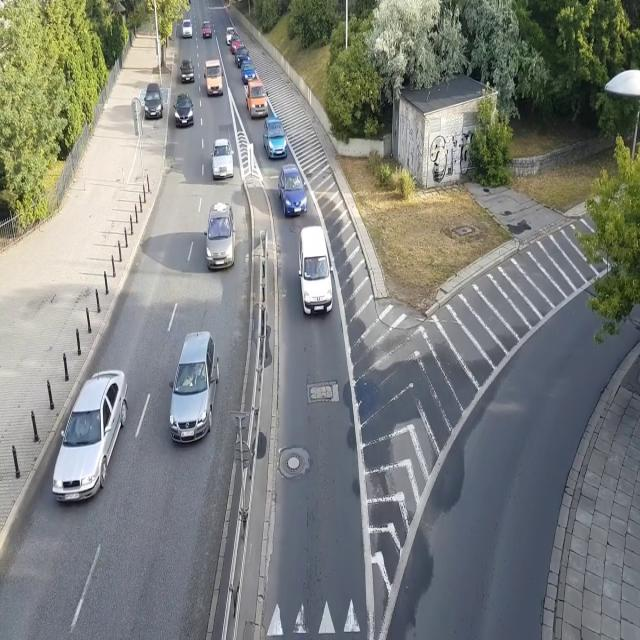car: (52, 371, 129, 505), (164, 332, 222, 445), (204, 201, 236, 271), (278, 165, 308, 219), (263, 117, 289, 158), (210, 138, 234, 179), (142, 82, 164, 122), (173, 93, 194, 128), (180, 59, 196, 85), (234, 46, 251, 68), (239, 60, 255, 83), (230, 36, 243, 54), (200, 21, 212, 39), (182, 19, 193, 38), (225, 26, 235, 46)
truck: (243, 80, 269, 118)
van: (298, 225, 334, 317), (204, 59, 224, 98)
